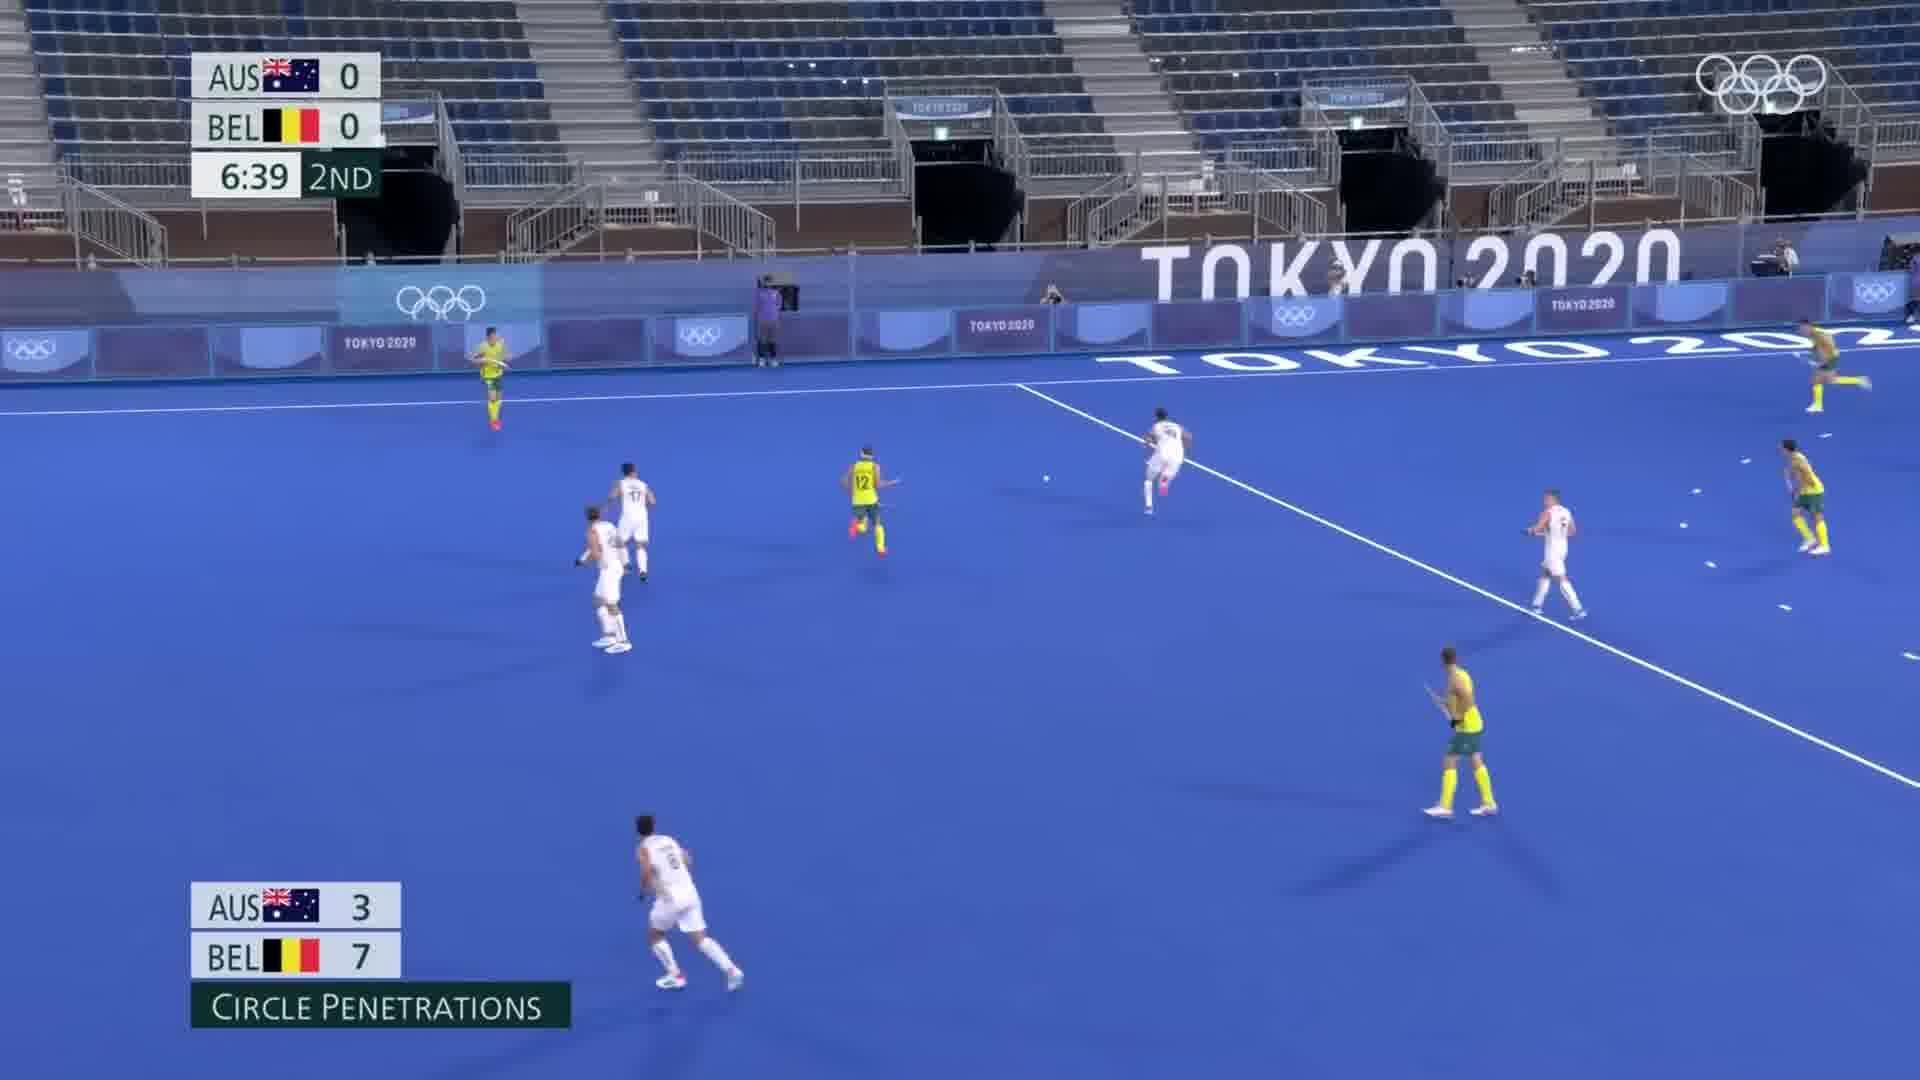ball: (1036, 469, 1054, 487)
